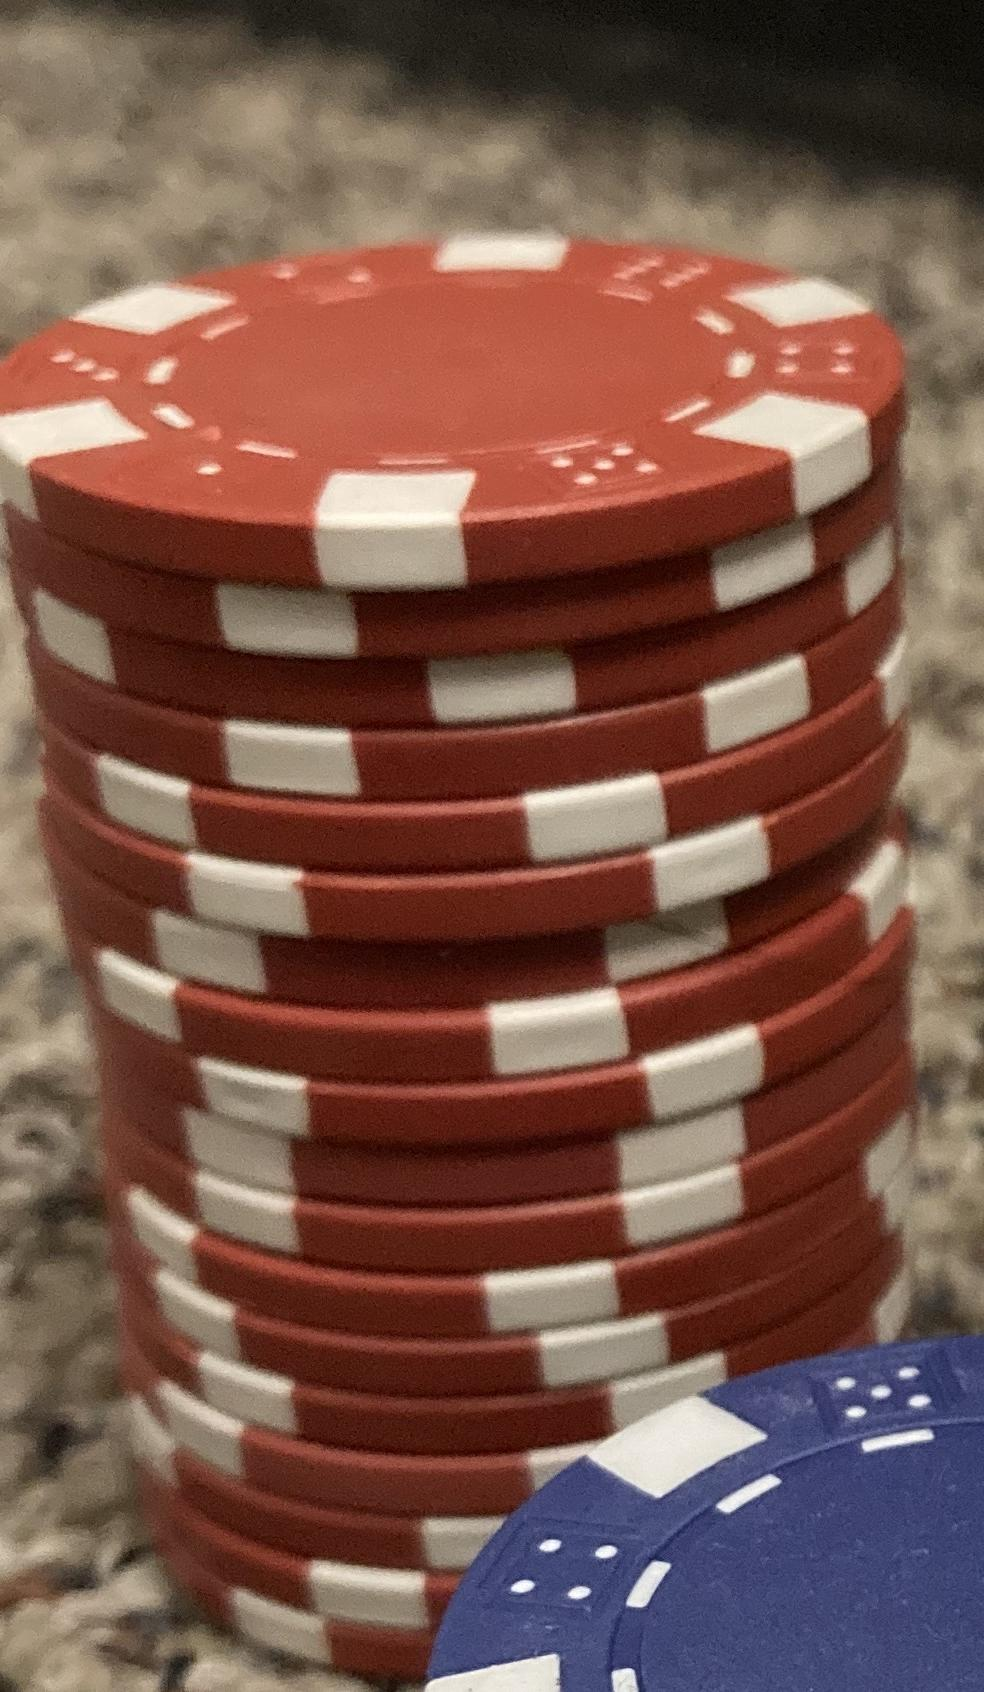Chip: (1, 1, 984, 1692)
